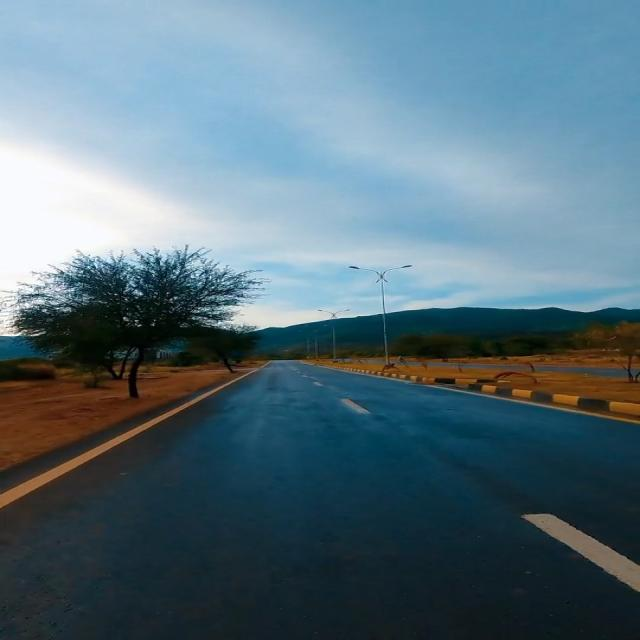asphalt: (0, 362, 639, 639)
grass: (0, 363, 235, 470), (390, 356, 639, 403), (305, 356, 382, 371)
